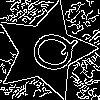Q: (20, 25, 79, 76)
